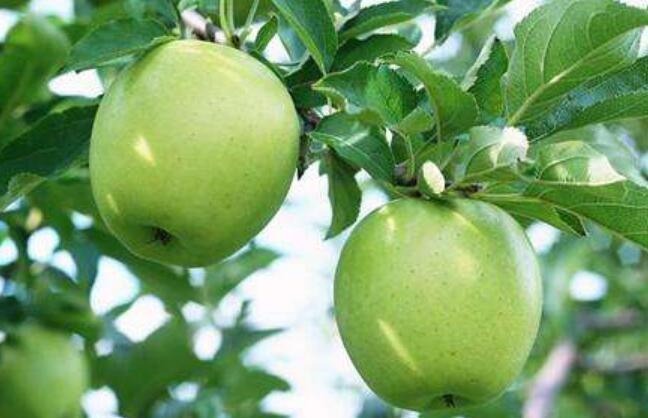apple: (87, 37, 303, 275), (333, 193, 546, 411)
